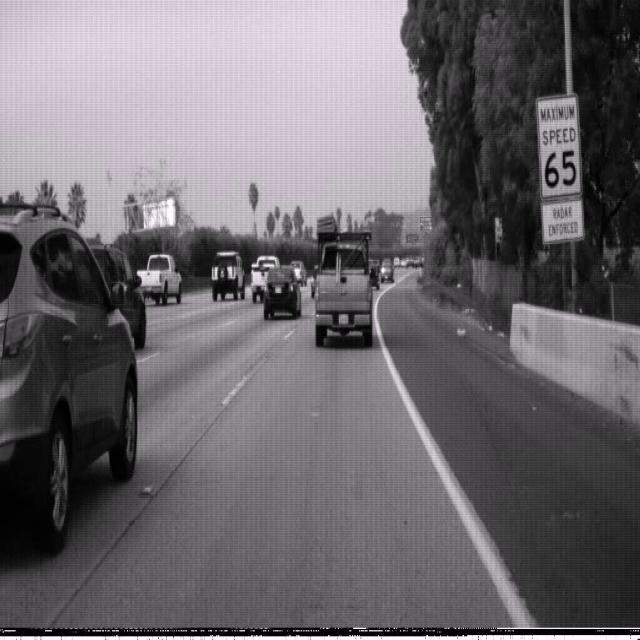speedLimit65: (536, 91, 583, 202)
